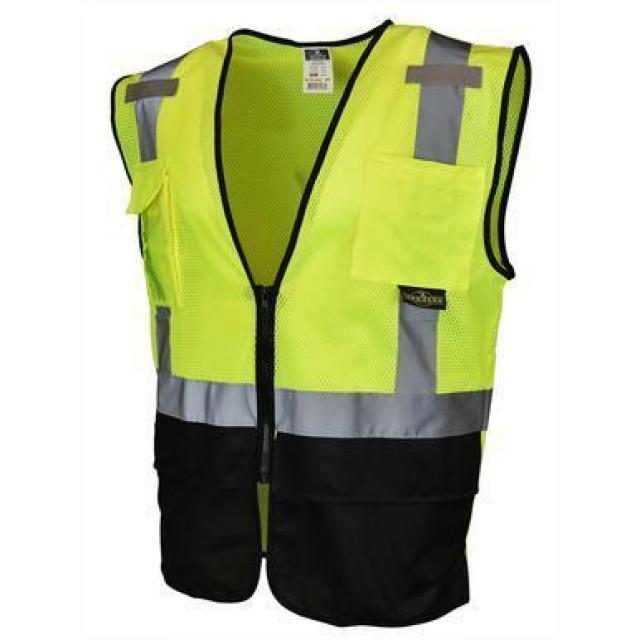Vest: (103, 22, 534, 630)
